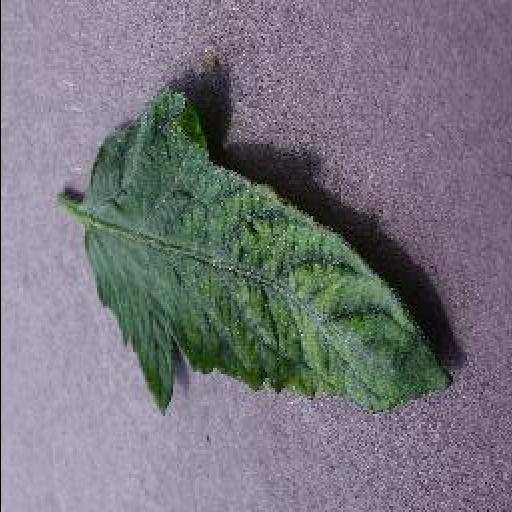Mosaic Virus: (84, 90, 456, 418)
